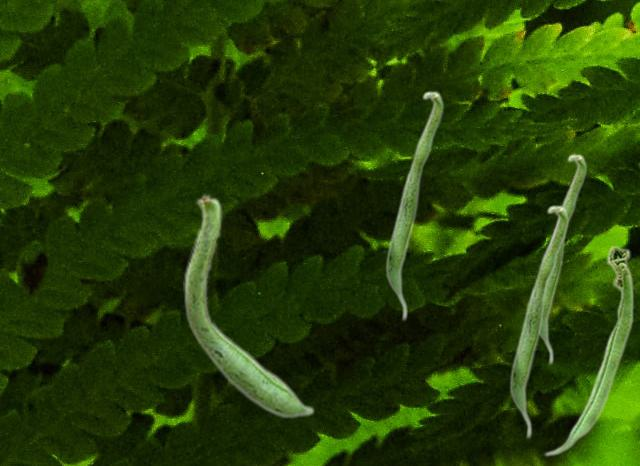french_bean: (183, 192, 314, 418), (543, 244, 633, 456), (509, 204, 568, 439), (385, 90, 443, 321), (541, 153, 586, 365)
